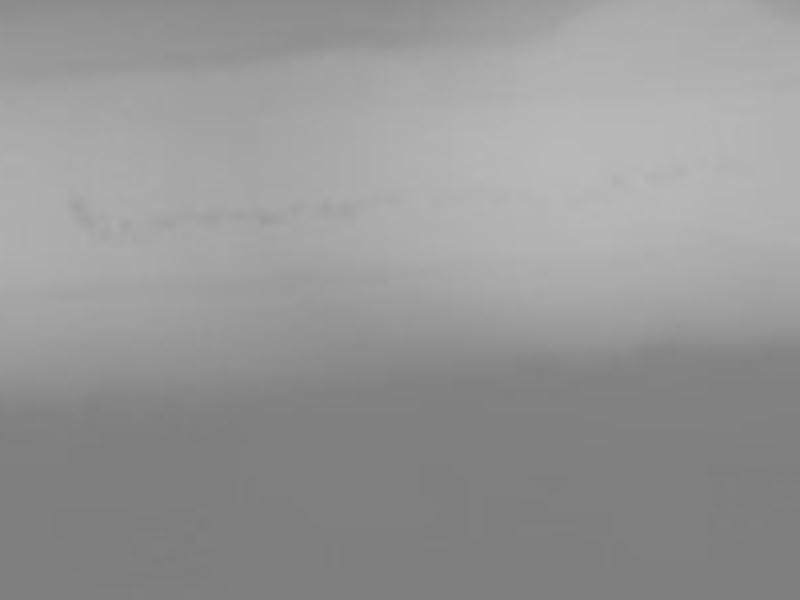defect: (74, 214, 108, 242), (151, 209, 179, 234), (195, 210, 226, 231), (333, 199, 357, 224), (251, 211, 286, 228), (65, 192, 89, 216), (286, 195, 309, 219), (640, 166, 663, 190), (671, 159, 697, 179), (605, 169, 629, 190), (226, 210, 249, 230), (119, 220, 141, 240), (313, 199, 334, 217)
